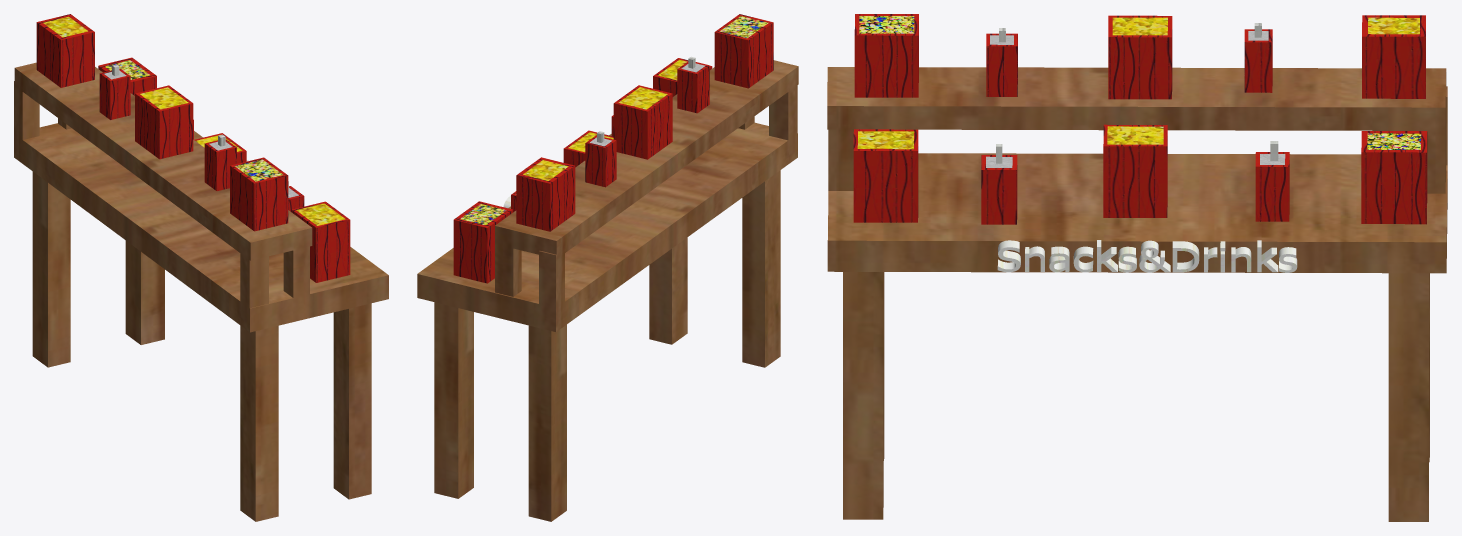
File: snacksand Drinks.dae
3 views of the same model, side by side, from view 1: azimuth 30°, elevation 25°; view 2: azimuth 150°, elevation 25°; view 3: azimuth 270°, elevation 25° (orthographic). The views are drawn at different scales.
Parts seen in each view (by area): view 1: SketchUp, SketchUp_007, SketchUp_006, SketchUp_005, SketchUp_004, SketchUp_011, SketchUp_009, SketchUp_013, SketchUp_008, SketchUp_020, SketchUp_023, SketchUp_010 (+4 smaller); view 2: SketchUp, SketchUp_004, SketchUp_005, SketchUp_007, SketchUp_006, SketchUp_011, SketchUp_009, SketchUp_013, SketchUp_010, SketchUp_023, SketchUp_020, SketchUp_015 (+5 smaller); view 3: SketchUp, SketchUp_004, SketchUp_006, SketchUp_010, SketchUp_008, SketchUp_012, SketchUp_013, SketchUp_011, SketchUp_009, SketchUp_022, SketchUp_021, SketchUp_023 (+7 smaller).
Boxes of the visible parts, x1,y1,x2,y2 form: SketchUp: (14,62,388,332); SketchUp_007: (240,325,278,521); SketchUp_006: (333,303,371,499); SketchUp_005: (32,171,70,367); SketchUp_004: (125,240,164,344); SketchUp_011: (36,14,94,87); SketchUp_009: (230,157,288,231); SketchUp_013: (135,85,193,159); SketchUp_008: (291,201,350,282); SketchUp_020: (99,68,130,119); SketchUp_023: (204,139,236,190); SketchUp_010: (98,57,156,95); SketchUp: (417,60,798,331); SketchUp_004: (434,302,473,498); SketchUp_005: (528,324,566,521); SketchUp_007: (742,170,780,367); SketchUp_006: (649,237,687,344); SketchUp_011: (516,157,575,231); SketchUp_009: (714,14,773,88); SketchUp_013: (613,85,672,159); SketchUp_010: (453,201,512,283); SketchUp_023: (677,61,709,113); SketchUp_020: (585,135,616,187); SketchUp_015: (618,87,667,109); SketchUp: (827,67,1447,273); SketchUp_004: (1388,273,1428,521); SketchUp_006: (843,272,883,519); SketchUp_010: (1361,131,1427,224); SketchUp_008: (853,129,918,222); SketchUp_012: (1103,124,1167,217); SketchUp_013: (1108,15,1172,99); SketchUp_011: (1362,15,1425,98); SketchUp_009: (854,14,918,97); SketchUp_022: (981,155,1017,224); SketchUp_021: (1255,152,1289,221); SketchUp_023: (986,33,1017,96).
Size of the model in its own units: 0.6841 by 1.88 by 1.45.
Materials: 8 (7 with a texture image).
